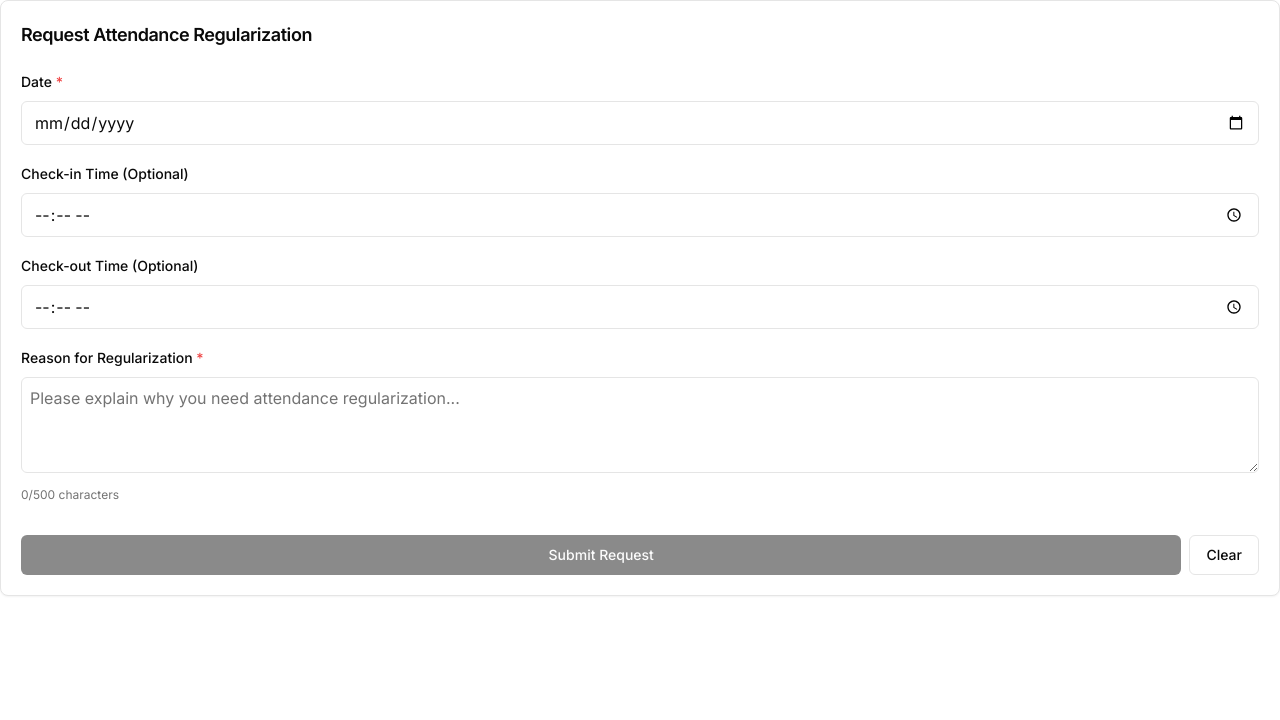
Scenario: RegularizationRequest Component › should display success message after successful submission
This screenshot has width=1280, height=720.
Type "2024-01-15" into the date field labelled "Date *" at (640, 123), box [21,101,1259,145]
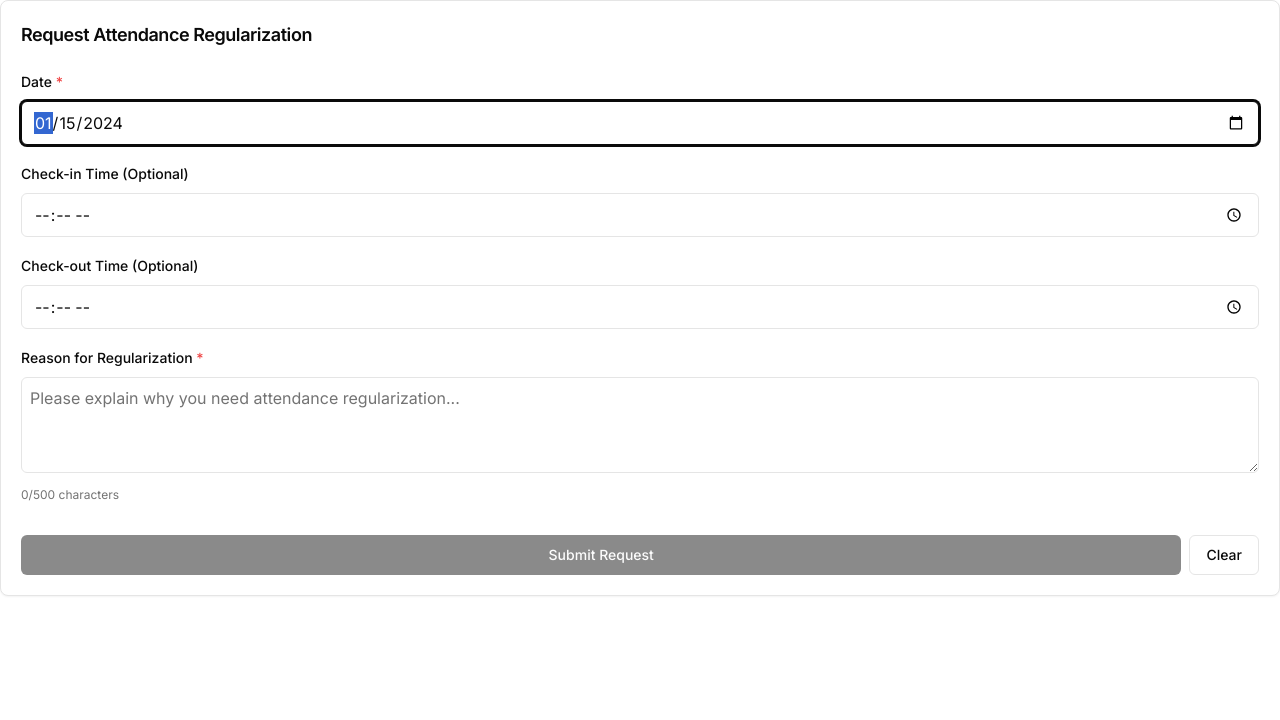
Type "System was down" into the text box with placeholder "Please explain why you need attendance regularization..." at (640, 425), box [21,377,1259,473]
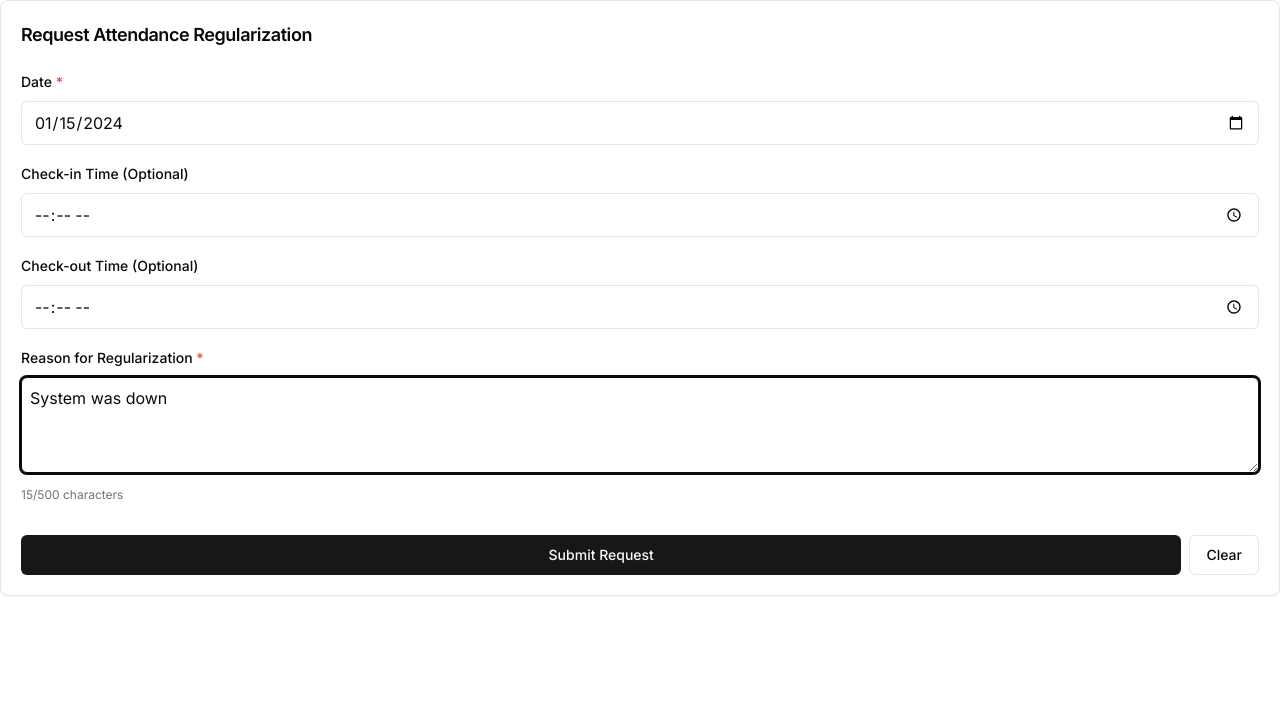
Click the button "Submit Request" at (601, 555), box [21,535,1182,575]
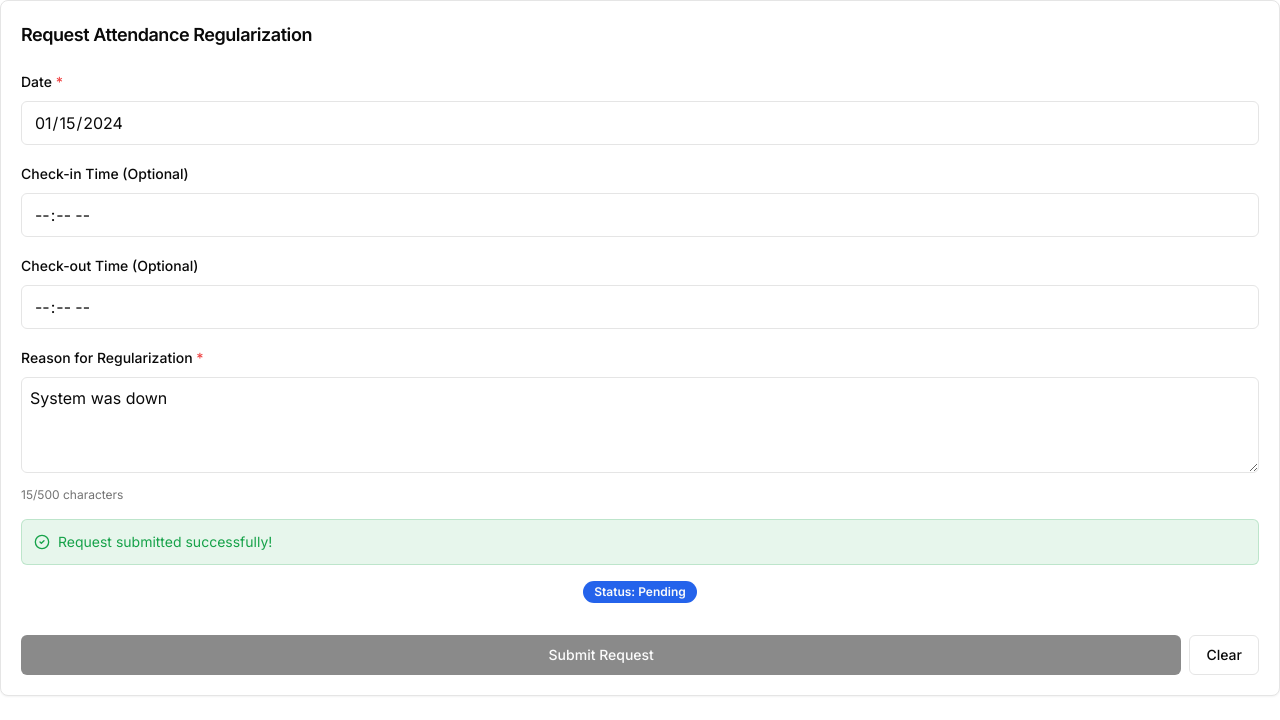
Expected: the text "Request submitted successfully!" is shown, [58,532,272,552]
